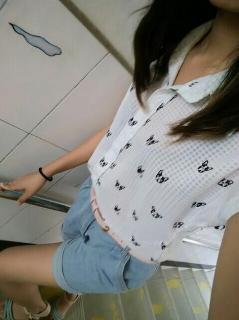short sleeve top: (87, 19, 239, 262)
shorts: (53, 174, 163, 294)
